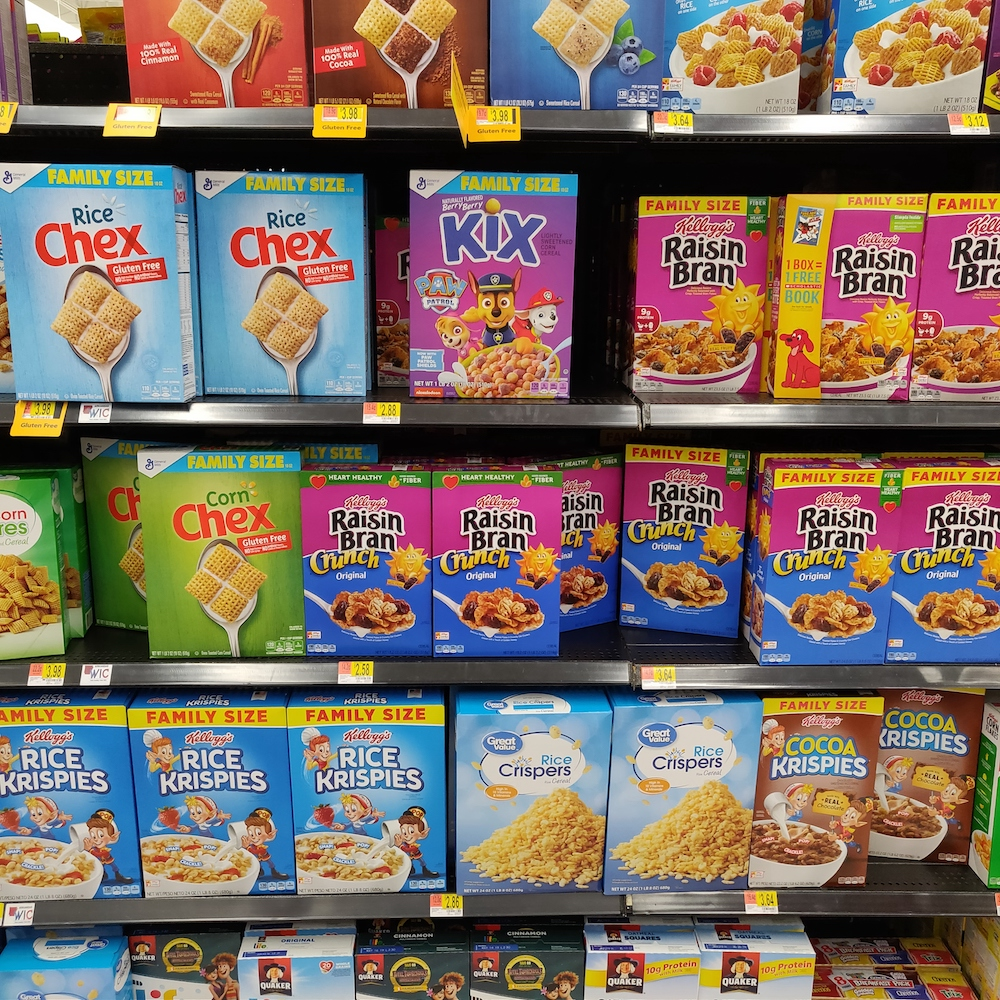Kix Berry -568919964: (411, 178, 577, 398)
